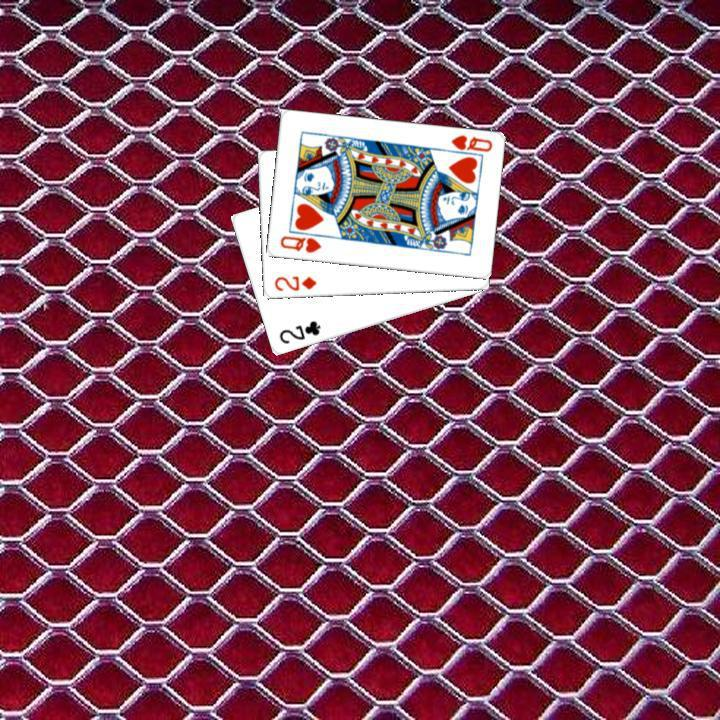2: (274, 316, 322, 346), (270, 272, 318, 293)
Q: (440, 131, 494, 159), (275, 232, 323, 255)
